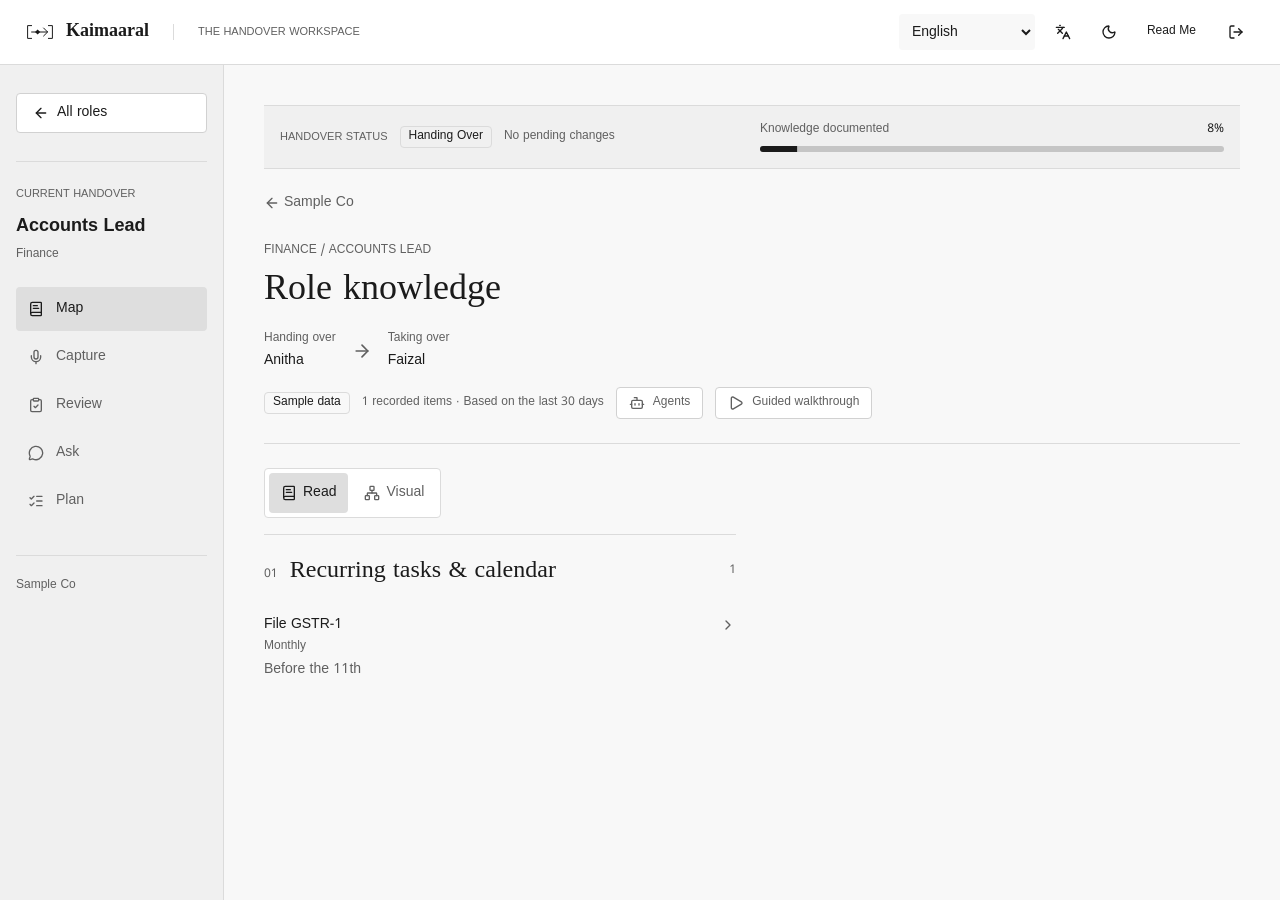
Scenario: Role page tabs › phone panel navigation can return to Map after Capture, Plan and Ask
Click the tab "Capture" at (112, 357), box [16, 335, 207, 379]
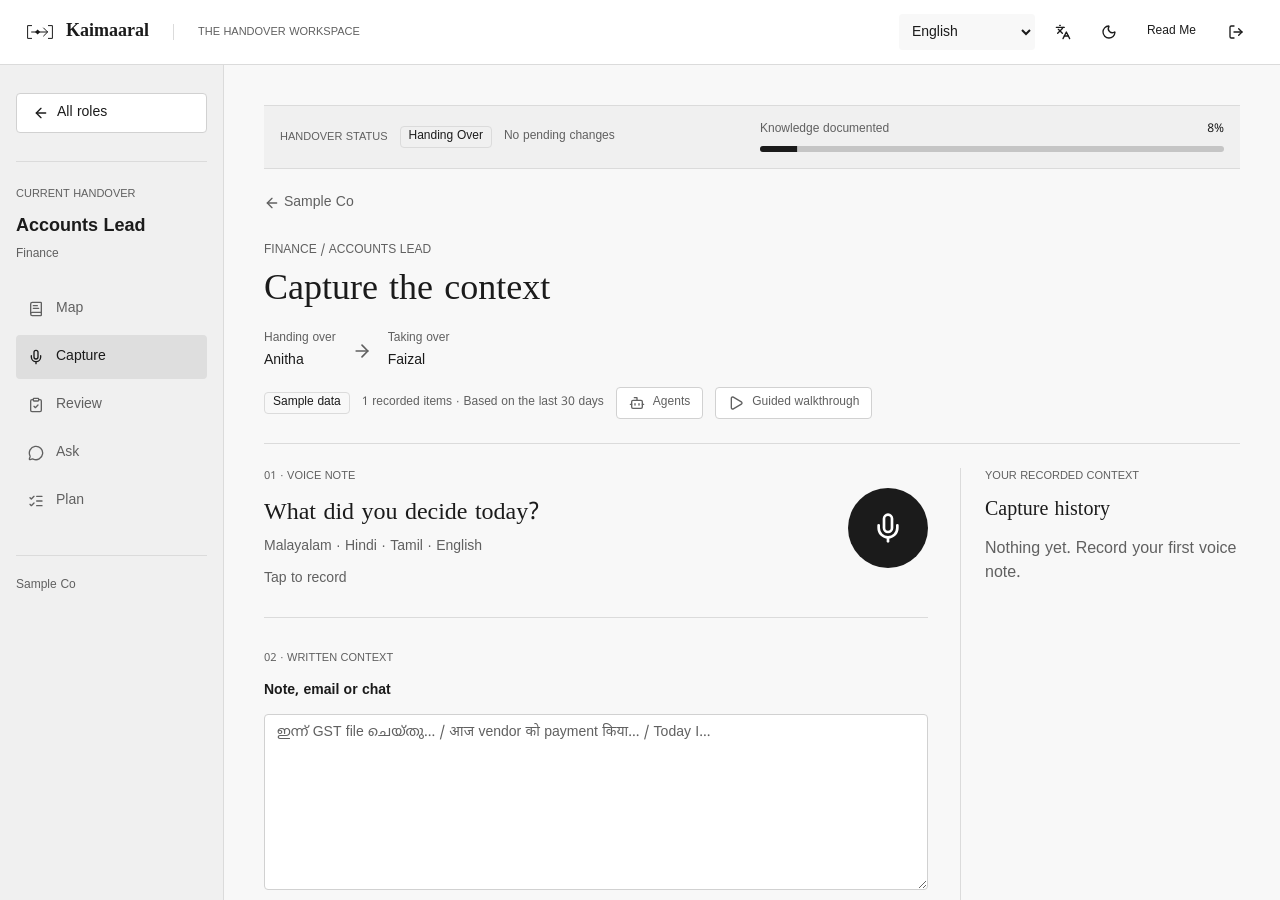
Click the tab "Plan" at (112, 501), box [16, 479, 207, 523]
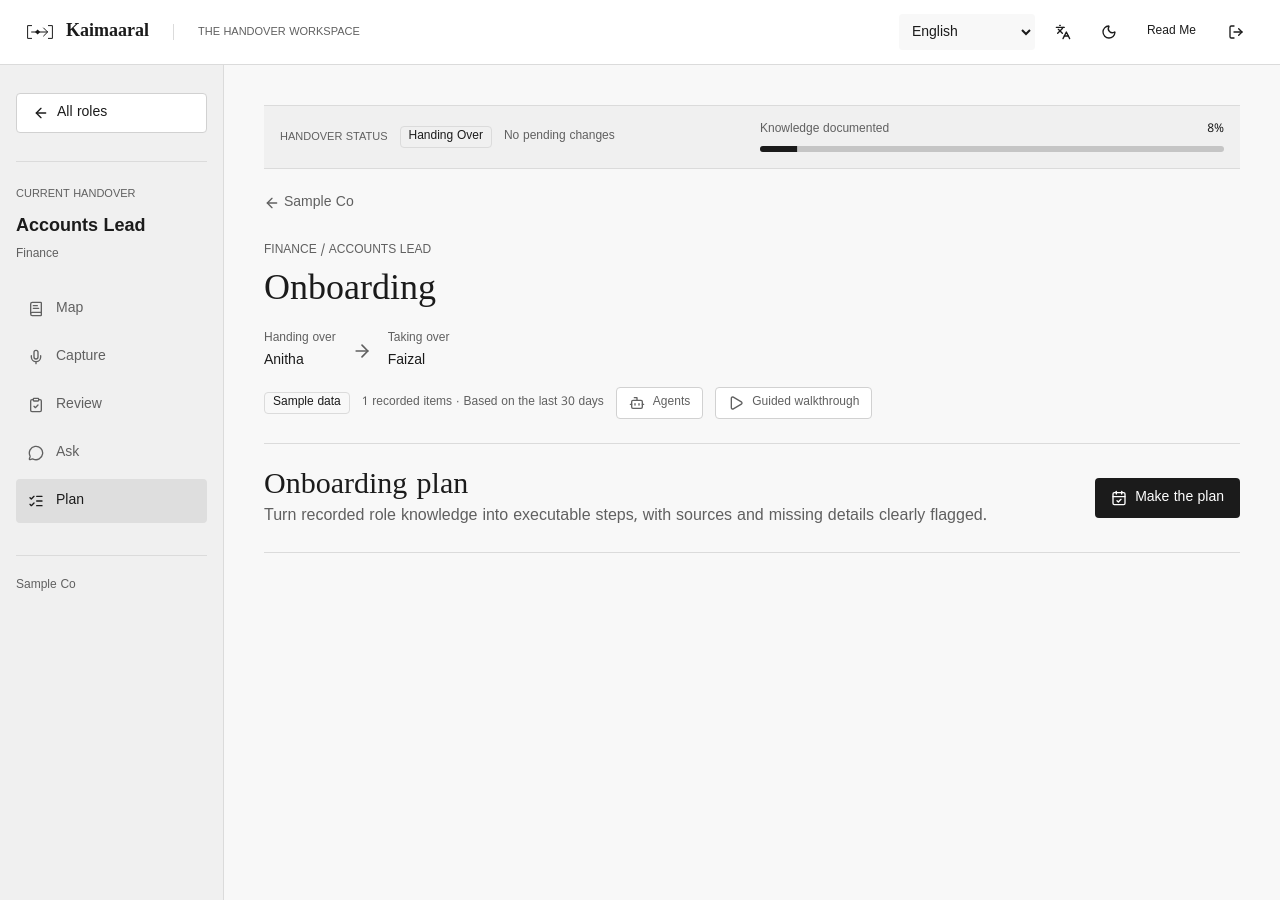
Click the tab "Ask" at (112, 453), box [16, 431, 207, 475]
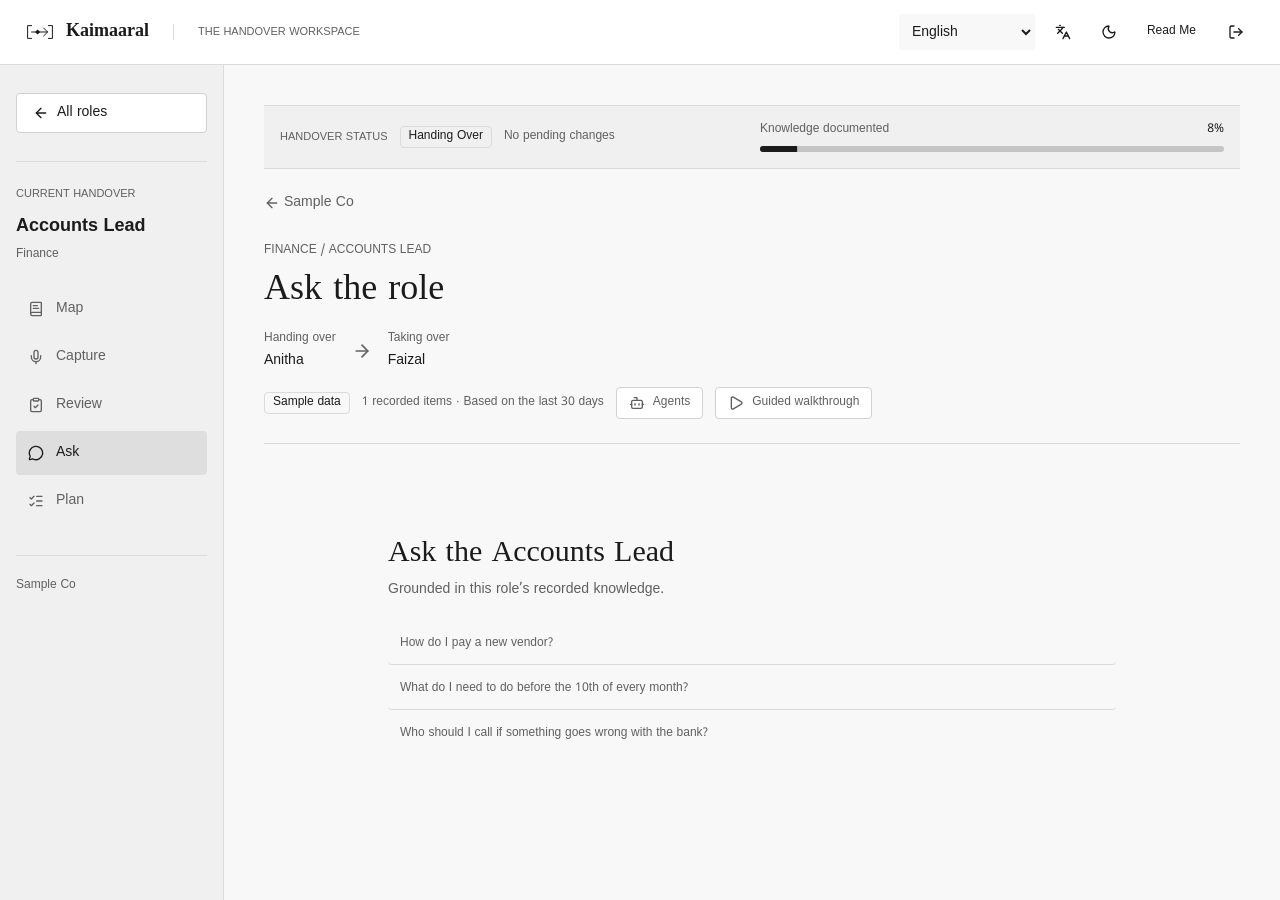
Click the tab "Map" at (112, 309), box [16, 287, 207, 331]
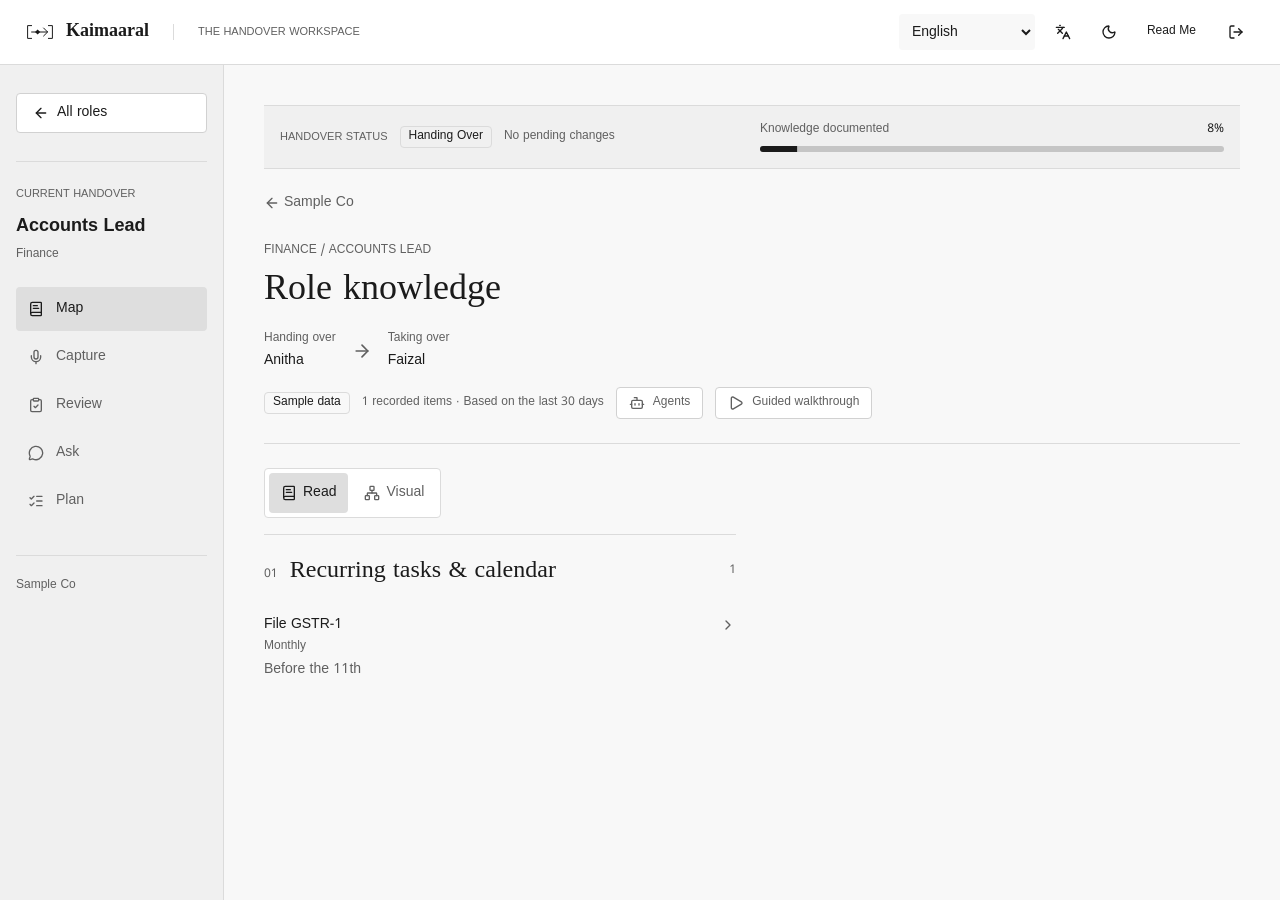
Now the text "File GSTR-1" is shown, box [264, 616, 342, 633]
